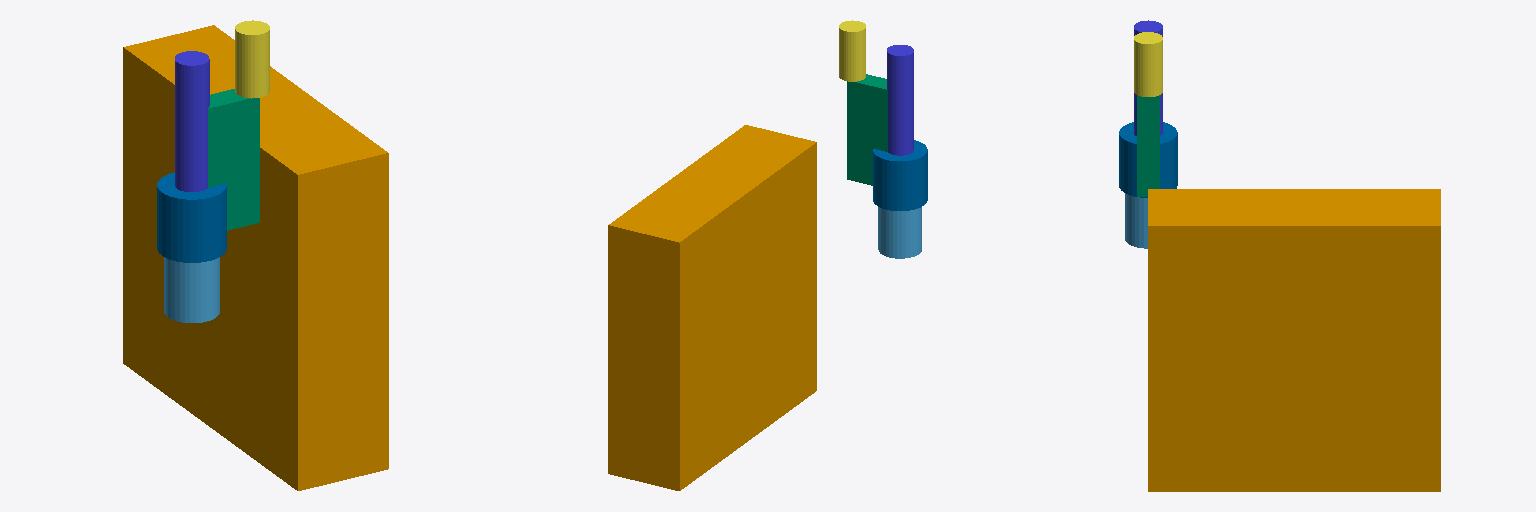
URDF robot description (texture_cube):
<?xml version="1.0" encoding="UTF-8"?>
<robot xmlns:xacro="http://wiki.ros.org/xacro" name="texture_cube">

    

  <link name="texture_cube">
    <visual>
      <geometry>
        <box size="0.3 1.0 1.0"/>
      </geometry>
      <origin xyz="0.5 0.5 0.15" rpy="0 0 0"/>
    </visual>

    <inertial>
      <origin xyz="0.5 0.5 0.15" rpy="0 0 0"/>
      <mass value="1.0"/>
      <inertia ixx="0.01" ixy="0.0" ixz="0.0"
               iyy="0.01" iyz="0.0"
               izz="0.01"/>
    </inertial>

  </link>

  <joint name="texture_cube_to_rrr_shoulder" type="revolute">
    <parent link="texture_cube"/>
    <child link="rrr_shoulder_link"/>
    <origin xyz="0.0 0.0 0.3" rpy="0 0 0"/>
    <axis xyz="0 0 1"/>
    <limit effort="20.0" velocity="2.0" lower="-3.14" upper="3.14"/>
  </joint>

  <link name="rrr_shoulder_link">
    <visual>
      <geometry>
        <cylinder radius="0.08" length="0.25"/>
      </geometry>
      <origin xyz="0 0 0.125" rpy="0 0 0"/>
    </visual>
    <inertial>
      <origin xyz="0 0 0.125" rpy="0 0 0"/>
      <mass value="0.5"/>
      <inertia ixx="0.002" ixy="0.0" ixz="0.0"
               iyy="0.002" iyz="0.0"
               izz="0.0015"/>
    </inertial>
  </link>

  <joint name="rrr_shoulder_to_elbow" type="revolute">
    <parent link="rrr_shoulder_link"/>
    <child link="rrr_elbow_link"/>
    <origin xyz="0 0 0.25" rpy="0 0 0"/>
    <axis xyz="0 1 0"/>
    <limit effort="15.0" velocity="1.8" lower="-2.0" upper="2.0"/>
  </joint>

  <link name="rrr_elbow_link">
    <visual>
      <geometry>
        <box size="0.2 0.08 0.4"/>
      </geometry>
      <origin xyz="0.1 0 0.2" rpy="0 0 0"/>
    </visual>
    <inertial>
      <origin xyz="0.1 0 0.2" rpy="0 0 0"/>
      <mass value="0.4"/>
      <inertia ixx="0.0015" ixy="0.0" ixz="0.0"
               iyy="0.0015" iyz="0.0"
               izz="0.0012"/>
    </inertial>
  </link>

  <joint name="rrr_elbow_to_wrist" type="revolute">
    <parent link="rrr_elbow_link"/>
    <child link="rrr_wrist_link"/>
    <origin xyz="0.2 0 0.4" rpy="0 0 0"/>
    <axis xyz="0 1 0"/>
    <limit effort="10.0" velocity="1.5" lower="-2.5" upper="2.5"/>
  </joint>

  <link name="rrr_wrist_link">
    <visual>
      <geometry>
        <cylinder radius="0.05" length="0.2"/>
      </geometry>
      <origin xyz="0 0 0.1" rpy="0 0 0"/>
    </visual>
    <inertial>
      <origin xyz="0 0 0.1" rpy="0 0 0"/>
      <mass value="0.2"/>
      <inertia ixx="0.0004" ixy="0.0" ixz="0.0"
               iyy="0.0004" iyz="0.0"
               izz="0.0003"/>
    </inertial>
  </link>

  <joint name="texture_cube_to_sensor_mount" type="fixed">
    <parent link="texture_cube"/>
    <child link="sensor_mount"/>
    <origin xyz="0.0 0.0 0.5" rpy="0 0 0"/>
  </joint>

  <link name="sensor_mount">
    <visual>
      <geometry>
        <cylinder radius="0.1" length="0.2"/>
      </geometry>
      <origin xyz="0 0 0.1" rpy="0 0 0"/>
    </visual>
    <inertial>
      <origin xyz="0 0 0.1" rpy="0 0 0"/>
      <mass value="0.2"/>
      <inertia ixx="0.001" ixy="0.0" ixz="0.0"
               iyy="0.001" iyz="0.0"
               izz="0.0008"/>
    </inertial>
  </link>

  <joint name="sensor_mount_to_antenna" type="continuous">
    <parent link="sensor_mount"/>
    <child link="antenna"/>
    <origin xyz="0 0 0.2" rpy="0 0 0"/>
    <axis xyz="0 0 1"/>
    <limit effort="2.0" velocity="1.5"/>
  </joint>

  <link name="antenna">
    <visual>
      <geometry>
        <cylinder radius="0.05" length="0.4"/>
      </geometry>
      <origin xyz="0 0 0.2" rpy="0 0 0"/>
      <material name="antenna_material">
        <color rgba="0.3 0.3 0.9 1.0"/>
      </material>
    </visual>
    <collision>
      <geometry>
        <cylinder radius="0.05" length="0.4"/>
      </geometry>
      <origin xyz="0 0 0.2" rpy="0 0 0"/>
    </collision>
    <inertial>
      <origin xyz="0 0 0.2" rpy="0 0 0"/>
      <mass value="0.1"/>
      <inertia ixx="0.0005" ixy="0.0" ixz="0.0"
               iyy="0.0005" iyz="0.0"
               izz="0.0002"/>
    </inertial>
  </link>

</robot>

--- What the picture shows (computed from the rendered views, not written in the file) ---
3 views of the same robot in one strip: view 1: azimuth 30°, elevation 25°; view 2: azimuth 150°, elevation 25°; view 3: azimuth 270°, elevation 25° (orthographic).
Model texture_cube with 6 links and 5 joints (3 revolute, 1 continuous, 1 fixed), rooted at texture_cube, posed all joints at 0.
Links seen in each view (by area): view 1: texture_cube, rrr_elbow_link, sensor_mount, antenna, rrr_shoulder_link, rrr_wrist_link; view 2: texture_cube, rrr_elbow_link, sensor_mount, antenna, rrr_shoulder_link, rrr_wrist_link; view 3: texture_cube, sensor_mount, rrr_elbow_link, rrr_wrist_link, rrr_shoulder_link, antenna.
Link boxes in pixels (box(x1,y1,x2,y2)): texture_cube: box(123, 25, 388, 490); rrr_elbow_link: box(208, 89, 259, 230); sensor_mount: box(157, 172, 226, 262); antenna: box(175, 51, 209, 191); rrr_shoulder_link: box(164, 257, 219, 322); rrr_wrist_link: box(235, 20, 269, 98); texture_cube: box(608, 125, 816, 490); rrr_elbow_link: box(847, 74, 887, 185); sensor_mount: box(873, 140, 927, 210); antenna: box(887, 45, 913, 155); rrr_shoulder_link: box(878, 207, 921, 258); rrr_wrist_link: box(839, 20, 865, 81); texture_cube: box(1148, 189, 1440, 491); sensor_mount: box(1119, 122, 1177, 197); rrr_elbow_link: box(1137, 95, 1159, 196); rrr_wrist_link: box(1134, 32, 1162, 96); rrr_shoulder_link: box(1125, 193, 1147, 248); antenna: box(1134, 20, 1162, 135).
Bounding box of the posed robot: 0.75 × 1.1 × 1.5 m (x, y, z).
Geometry: primitives only (box / cylinder / sphere), no mesh files.